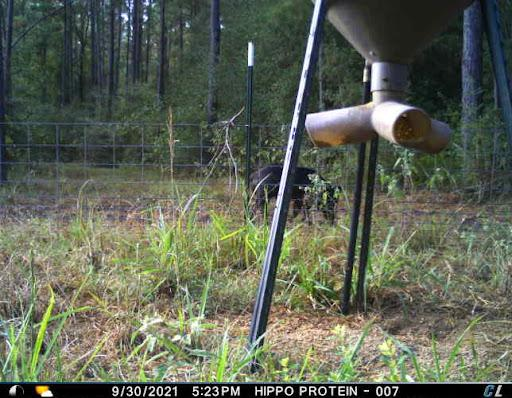Hog: (246, 159, 348, 230)
